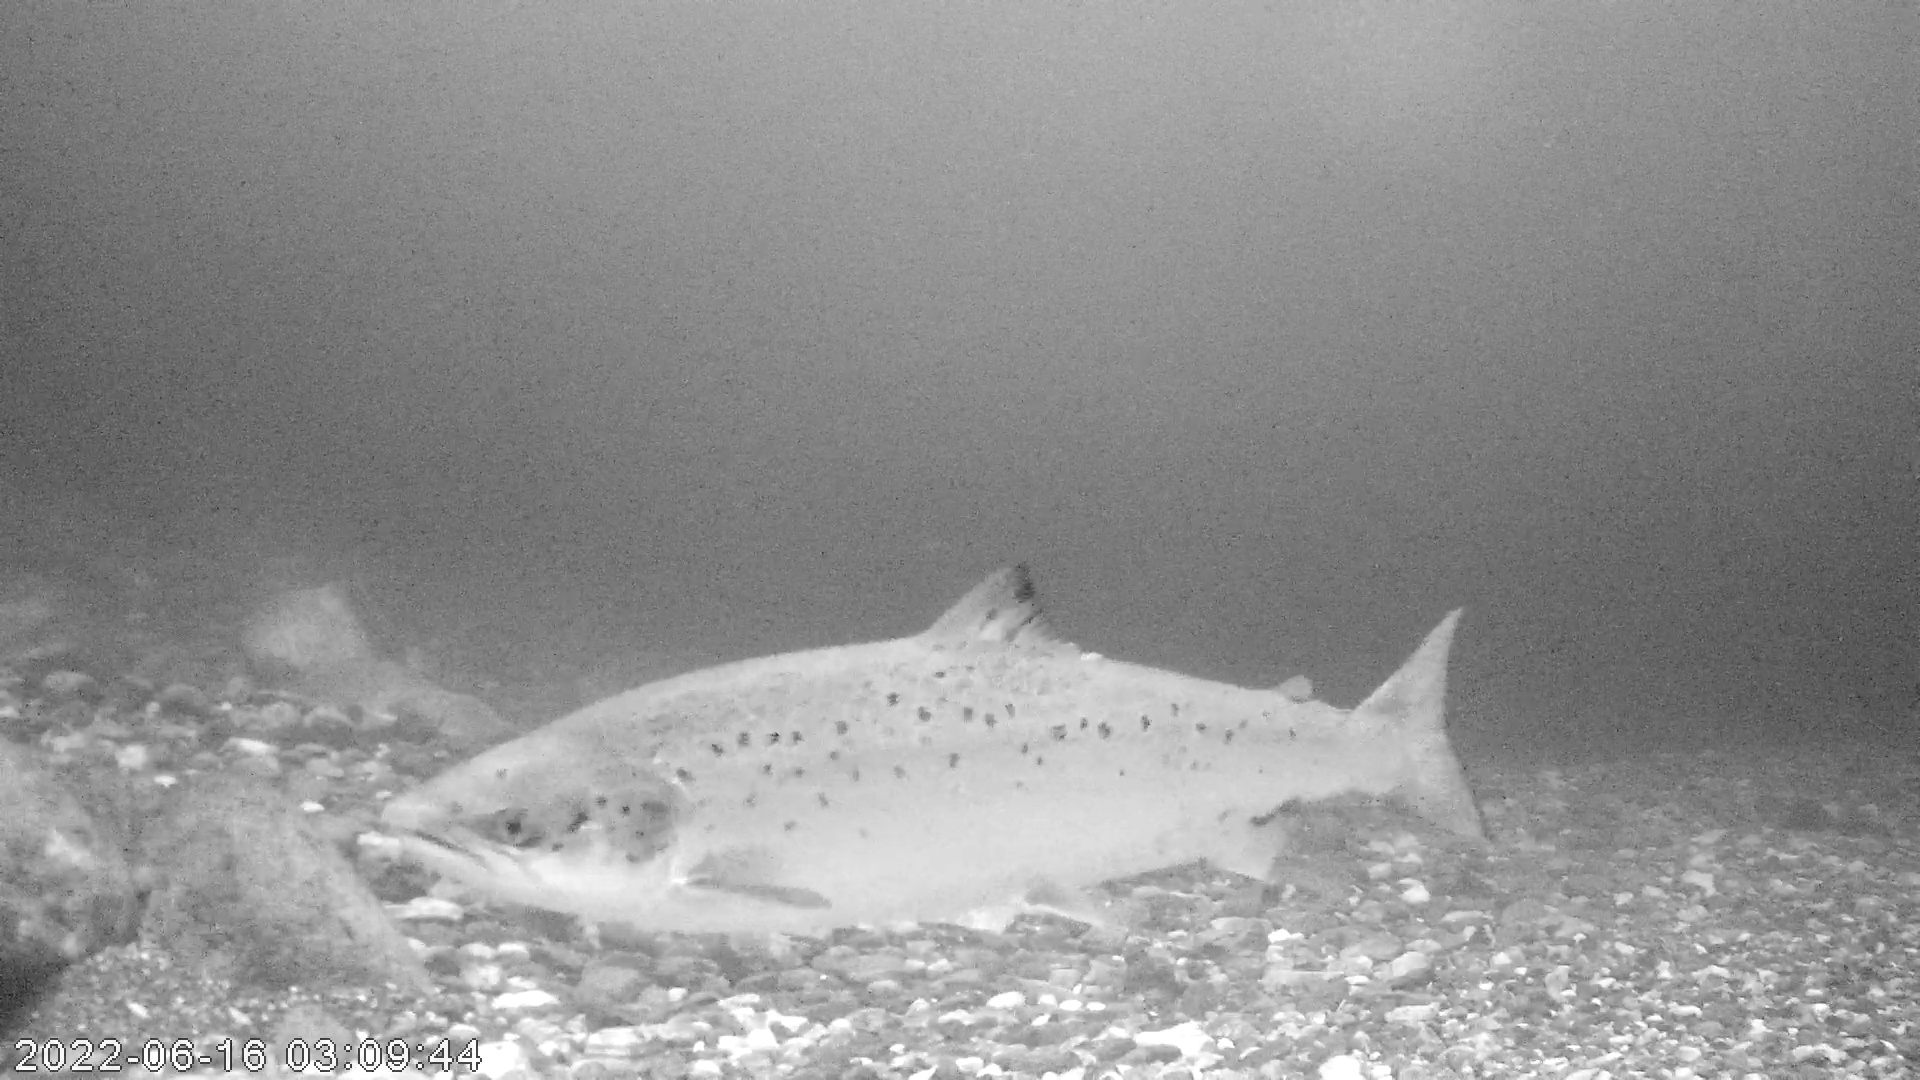salmon: (380, 559, 1493, 940)
